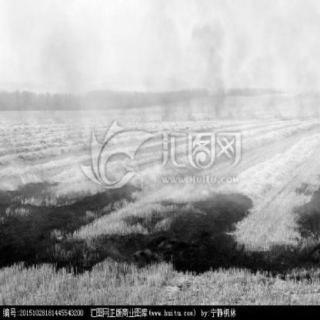Fire: (6, 131, 59, 187)
